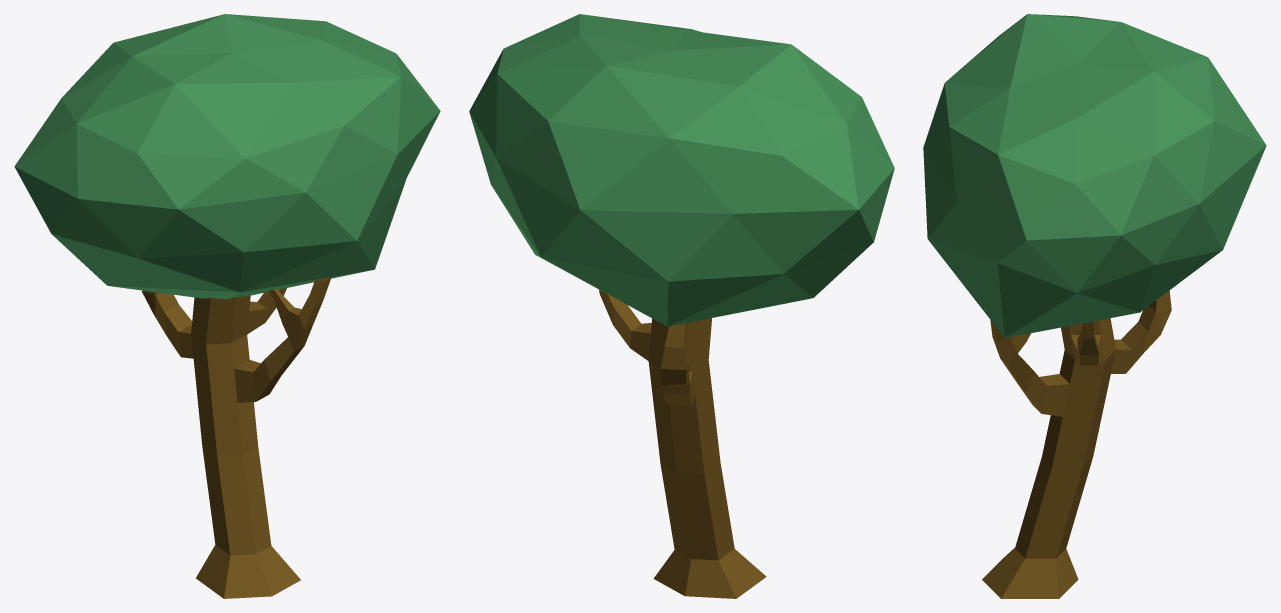
File: pom_1.fbx
The picture shows the model from 3 angles, left to right: view 1: azimuth 30°, elevation 25°; view 2: azimuth 150°, elevation 25°; view 3: azimuth 270°, elevation 25°; orthographic projection. The views are drawn at different scales.
Parts seen in each view (by area): view 1: Icosphere.004, Cube.004; view 2: Icosphere.004, Cube.004; view 3: Icosphere.004, Cube.004.
Boxes of the visible parts, <box> form: Icosphere.004: <box>14,14,440,299</box>; Cube.004: <box>142,277,331,598</box>; Icosphere.004: <box>469,14,894,326</box>; Cube.004: <box>599,289,766,598</box>; Icosphere.004: <box>923,14,1266,337</box>; Cube.004: <box>982,290,1171,598</box>.
Size of the model in its own units: 923 by 1204 by 709.
